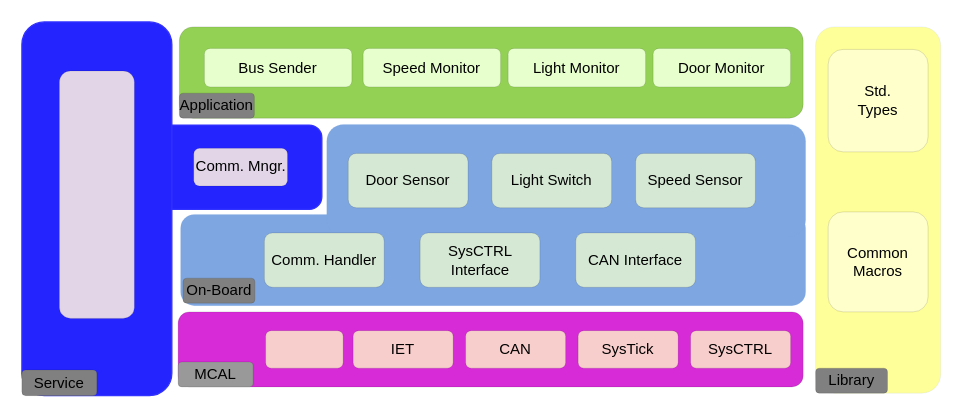
Image size: 963x418. Some labels were removed from this diagram. The centre of each missing label's shape, as x and y in pixels:
"DIO" goes at point 303,349.
"RTOS" goes at point 96,194.
